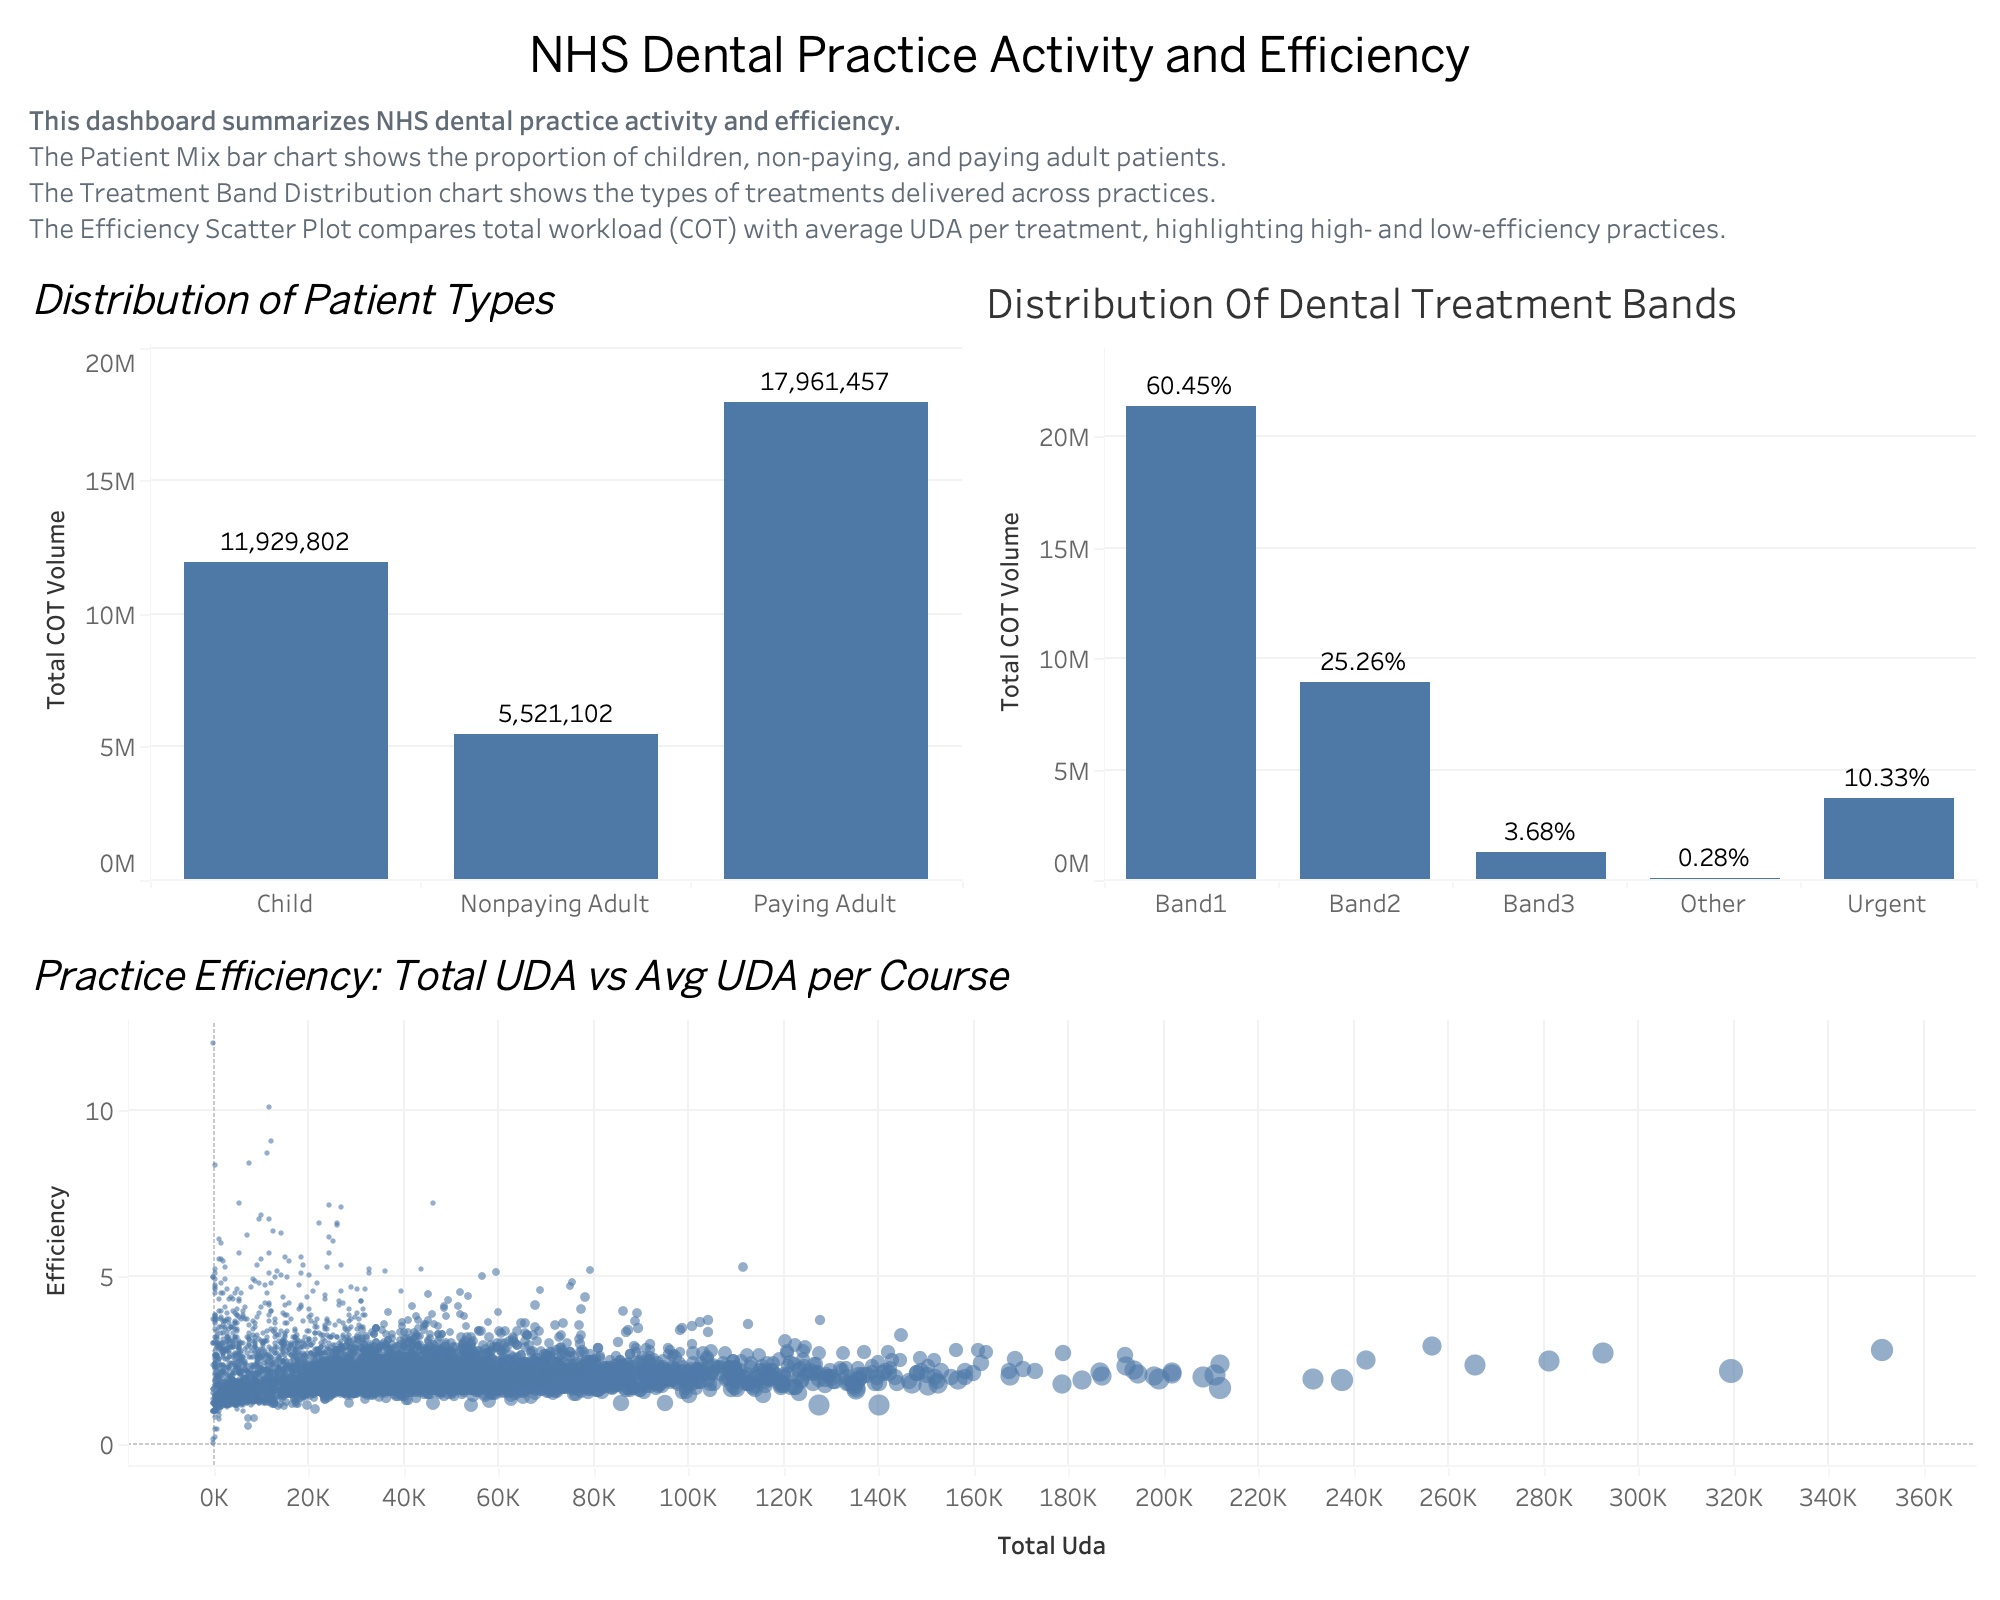

The page's visual inventory and layout, read from the dashboard file:
{"tool":"tableau","page":{"name":"Dashboard 2","canvas":[1000,800],"ordinal":0},"visuals":[{"type":"title","box":[8,8,984,39]},{"type":"text","box":[8,47,984,80]},{"type":"worksheet","title":"patient mix2","mark":"Automatic","rows":["Pivot Field Values"],"cols":["Pivot Field Names"],"box":[8,127,374,338]},{"type":"worksheet","title":"band mix","mark":"Automatic","rows":["UDA"],"box":[382,127,610,338]},{"type":"worksheet","title":"Efficiency Scatter Plot","mark":"Circle","rows":["avg_uda_per_cot"],"cols":["total_uda"],"box":[8,465,984,327]}]}

Visuals, with their boxes in screenshot pixels (x1, y1, x2, y2), scaled from the page's 1000x800 canvas onto the 2000x1600 screenshot:
title: left=16, top=16, right=1984, bottom=94
text: left=16, top=94, right=1984, bottom=254
"patient mix2" worksheet: left=16, top=254, right=764, bottom=930
"band mix" worksheet: left=764, top=254, right=1984, bottom=930
"Efficiency Scatter Plot" worksheet (Circle marks): left=16, top=930, right=1984, bottom=1584
